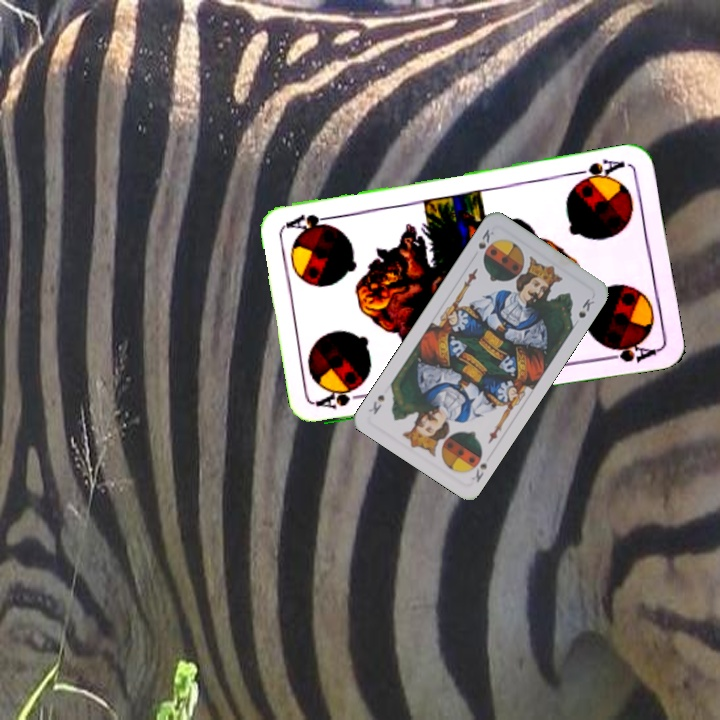SA: (569, 155, 628, 187), (314, 385, 373, 412)
SK: (474, 225, 497, 252), (467, 459, 490, 485)
